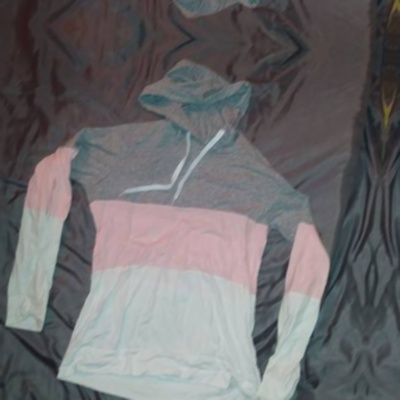Hoodie: (0, 54, 359, 400), (33, 0, 396, 24), (389, 90, 400, 400)
